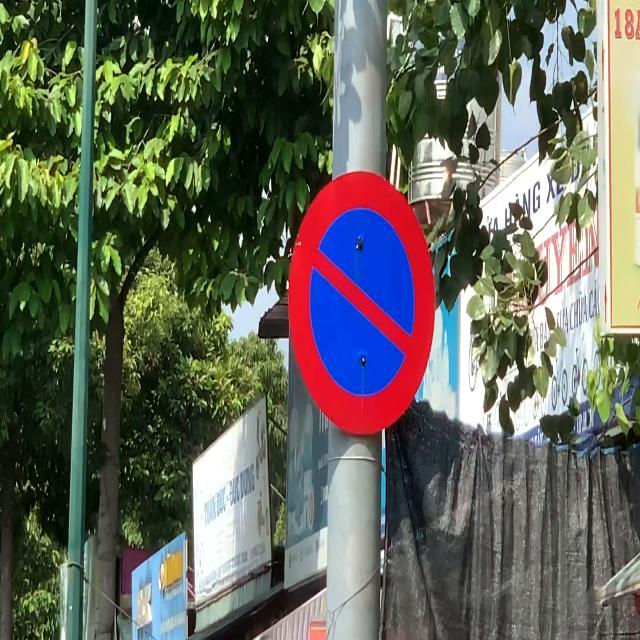Cam do xe: (284, 159, 440, 448)
